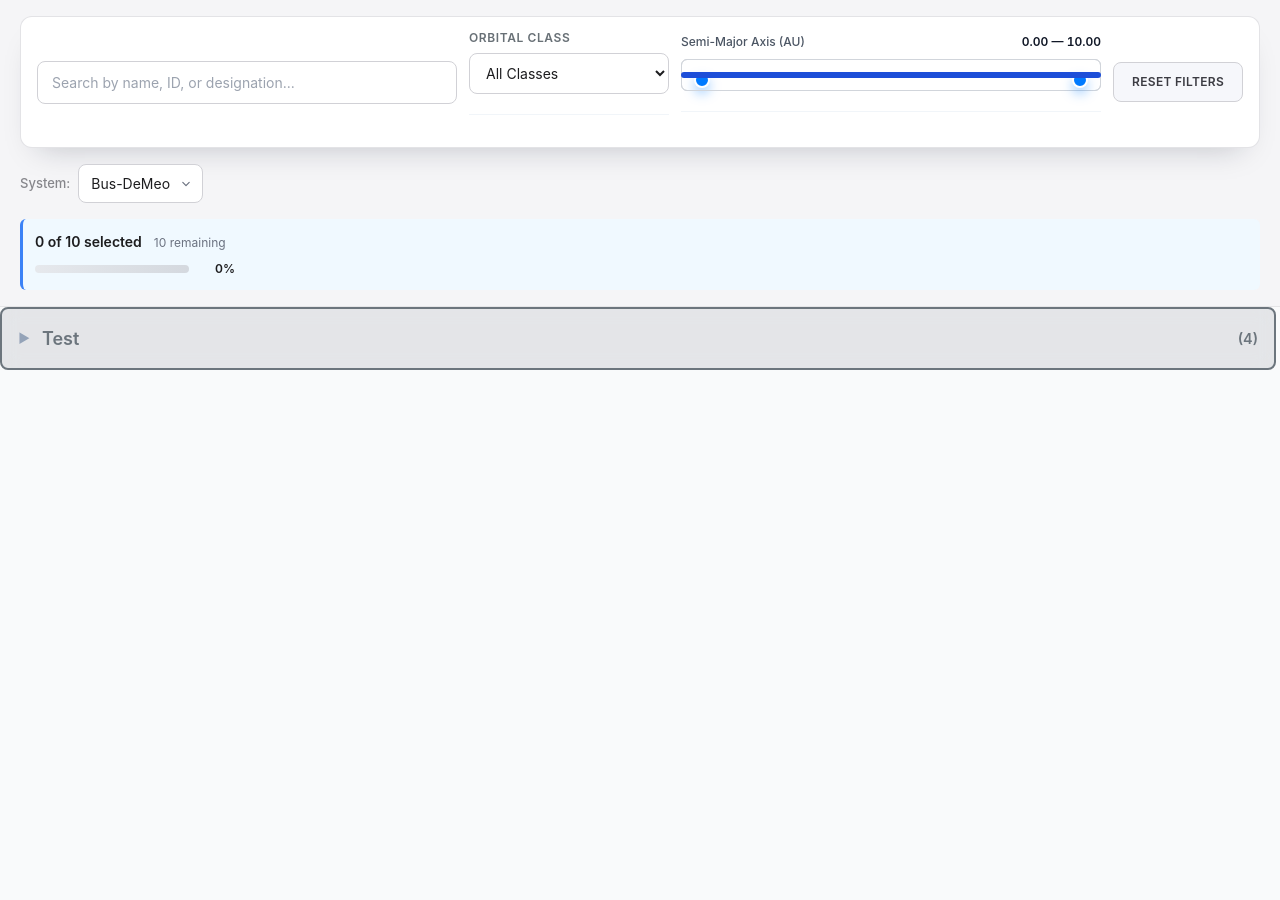
it: TaxonomyTree › displays the correct asteroid names based on available data
This screenshot has width=1280, height=900.
Expected: the text "Test" is shown, [42,328,79,349]
Click the button with class "classification-header".
click(61, 338)  # box [0,307,1276,370]
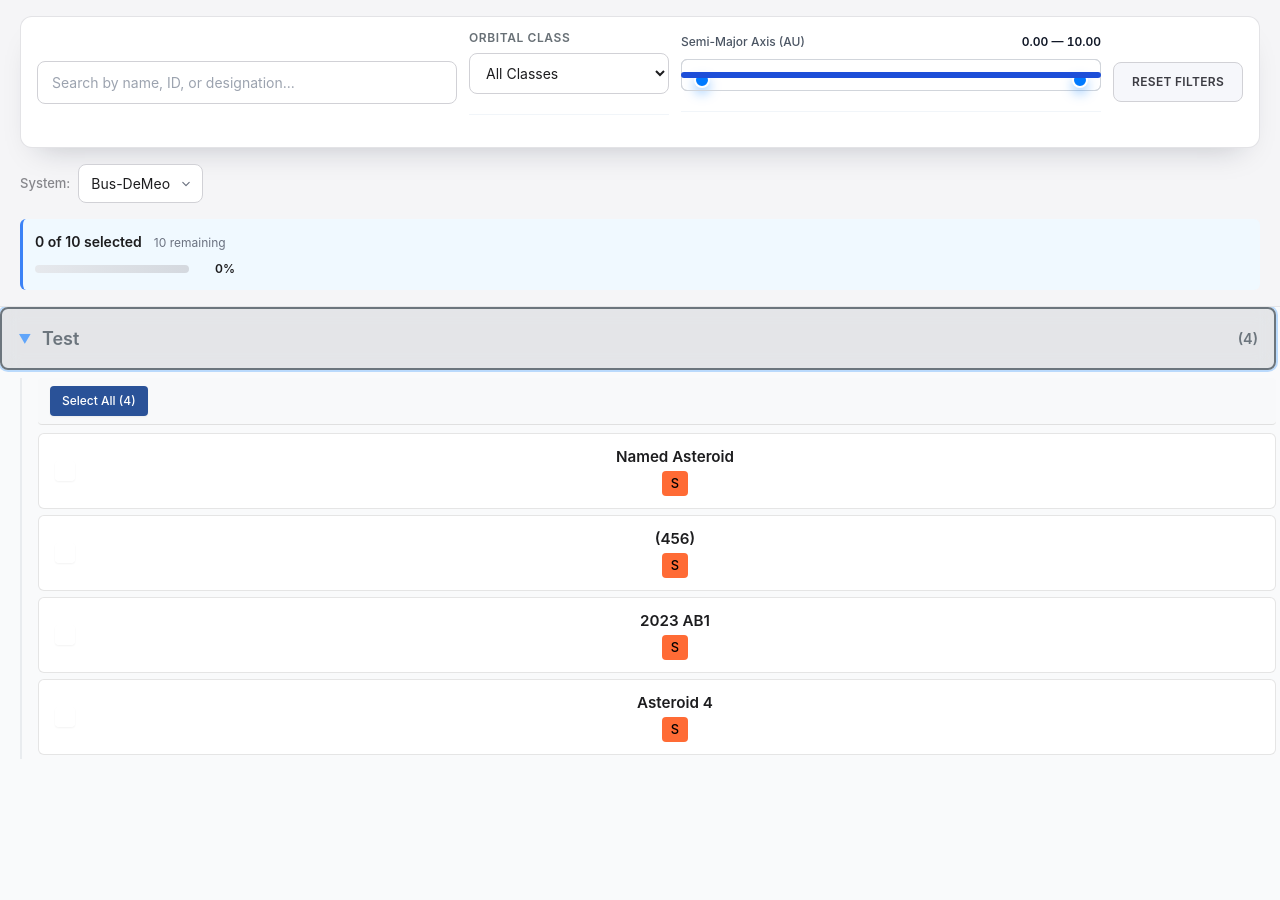
Expected: the text "Named Asteroid" is shown, [616,446,734,469]
Expected: the text "(456)" is shown, [655,528,695,551]
Expected: the text "2023 AB1" is shown, [640,610,710,633]
